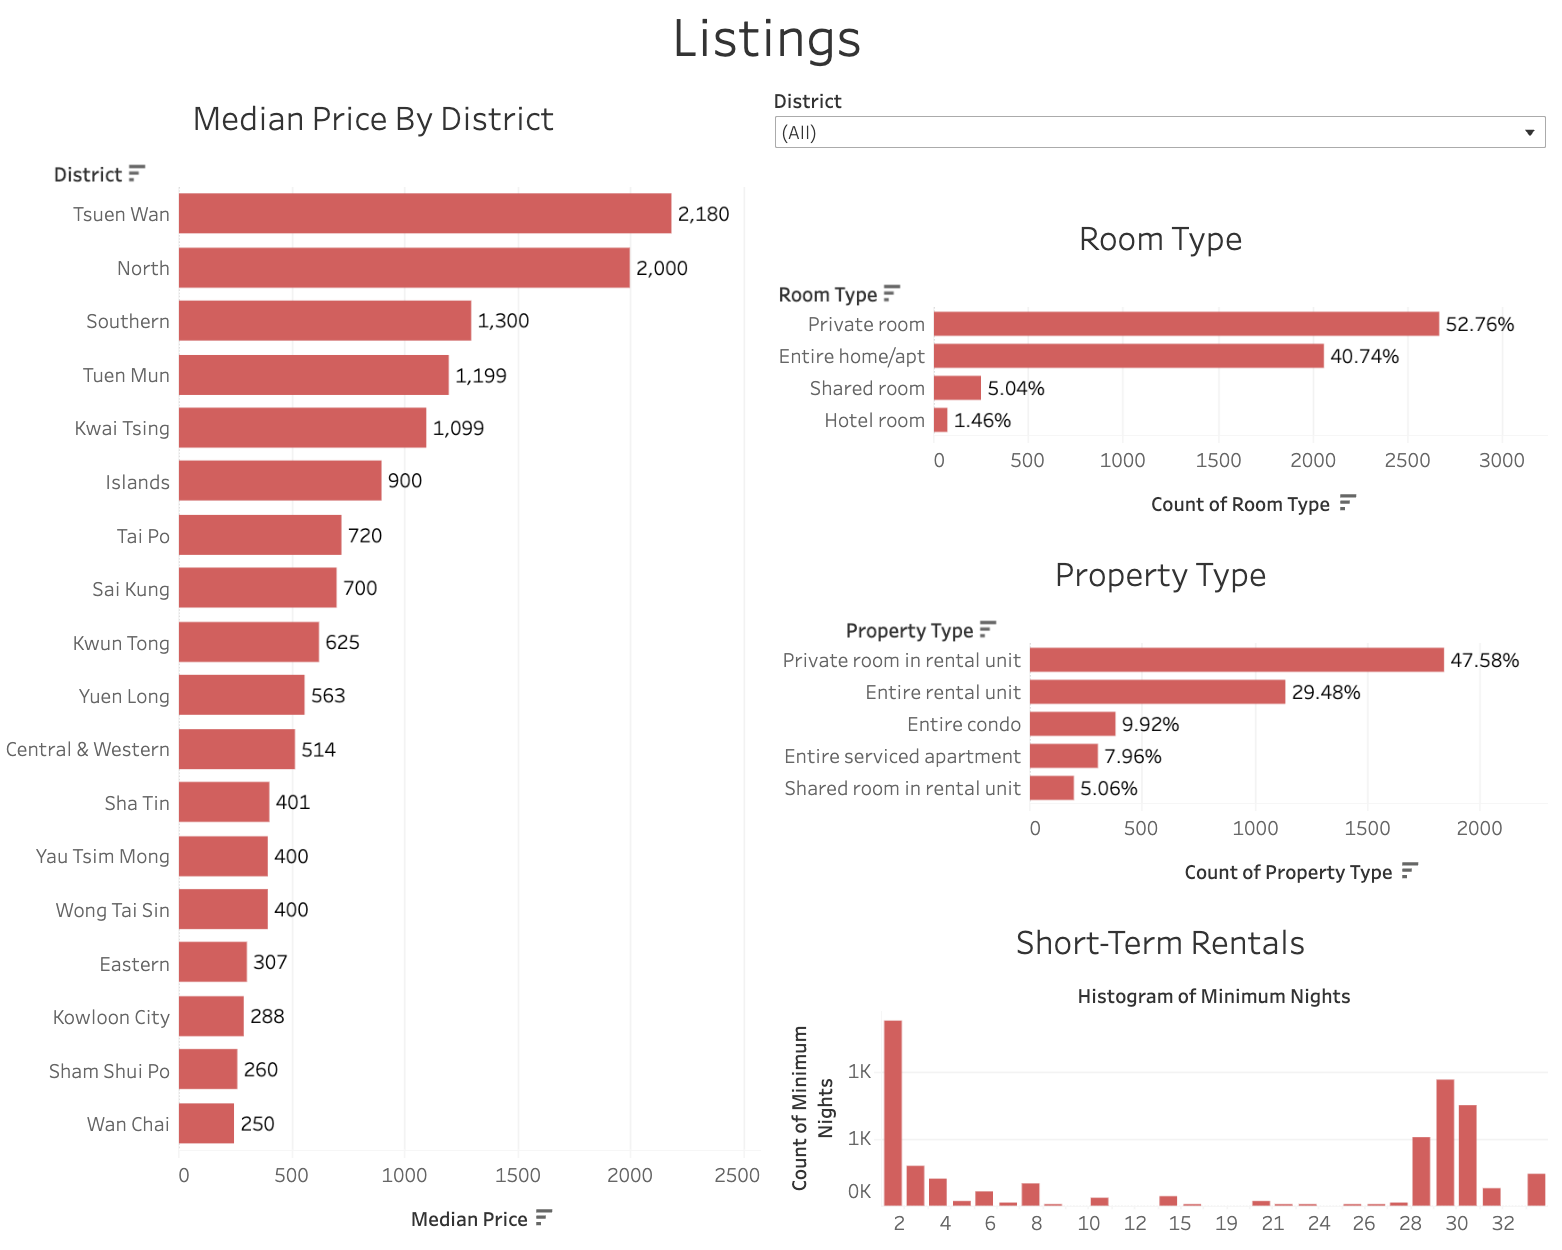

What the dashboard file says about the page in this screenshot:
{"tool":"tableau","page":{"name":"Listings","canvas":[1000,800],"ordinal":1},"visuals":[{"type":"title","box":[8,8,984,53]},{"type":"worksheet","title":"Median Price By District","mark":"Automatic","rows":["neighbourhood_cleansed"],"cols":["price"],"box":[8,61,492,731]},{"type":"filter","title":"Room Type","param":"[federated.18b451b1rvoibn10diw5a04rgvf0].[none:neighbourhood_cleansed:nk]","box":[500,61,492,75]},{"type":"worksheet","title":"Room Type","mark":"Automatic","rows":["room_type"],"cols":["room_type"],"box":[500,136,492,207]},{"type":"worksheet","title":"Property Type","mark":"Automatic","rows":["property_type"],"cols":["property_type"],"box":[500,343,492,234]},{"type":"worksheet","title":"Short-Term Rentals","mark":"Automatic","rows":["minimum_nights"],"cols":["Calculation_4270397657795981313"],"box":[500,577,492,215]}]}

Visuals, with their boxes in screenshot pixels (x1, y1, x2, y2), scaled from the page's 1000x800 canvas onto the 1562x1250 screenshot:
title: bbox=[12, 12, 1550, 95]
"Median Price By District" worksheet: bbox=[12, 95, 781, 1238]
"Room Type" filter: bbox=[781, 95, 1550, 212]
"Room Type" worksheet: bbox=[781, 212, 1550, 536]
"Property Type" worksheet: bbox=[781, 536, 1550, 902]
"Short-Term Rentals" worksheet: bbox=[781, 902, 1550, 1238]
